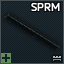Kiba Arms International SPRM rail mount for pump-action shotguns: (0, 0, 64, 64)
